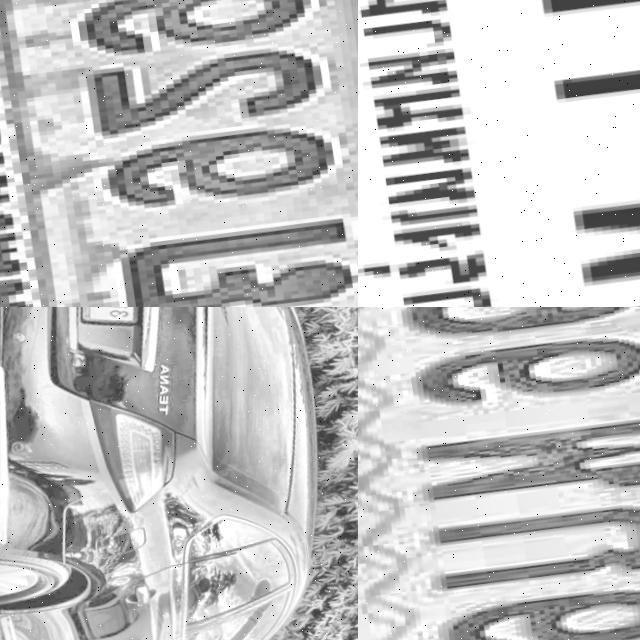license-plate: (0, 0, 358, 307), (358, 307, 640, 640), (358, 0, 640, 307), (67, 307, 149, 330)
